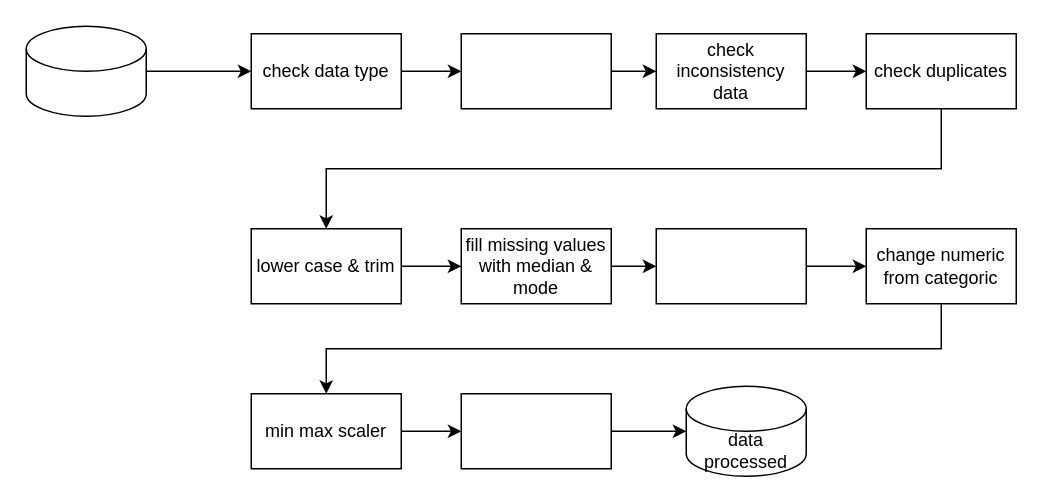
This 1043x503 diagram has some shape labels left out. The centre of each missing label's shape, as x and y in pixels:
check null data: pixel 535 70
data raw: pixel 85 70
drop duplicates: pixel 730 265
one hot encoder: pixel 535 430
